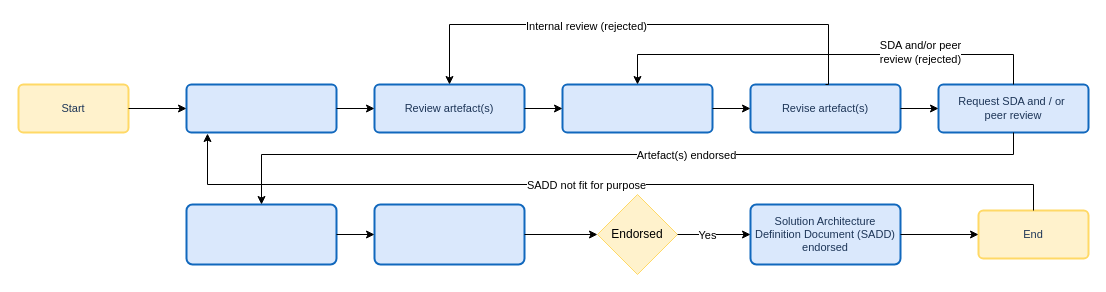
This 1106x292 diagram has some shape labels left out. The box of each missing label's shape, as (x1, y1, x2, y2) in pixels:
Add artefact(s) to the Solution Architecture Definition Document (SADD): (185, 203, 337, 265)
Create initial artefact(s): (185, 83, 337, 133)
Incorporate review comments: (561, 83, 713, 133)
Request peer review: (373, 203, 525, 265)
